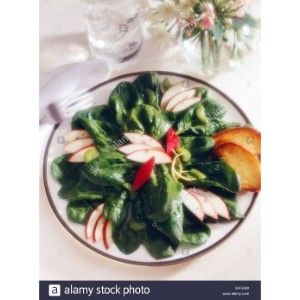spinach_brain food: (66, 75, 222, 253)
